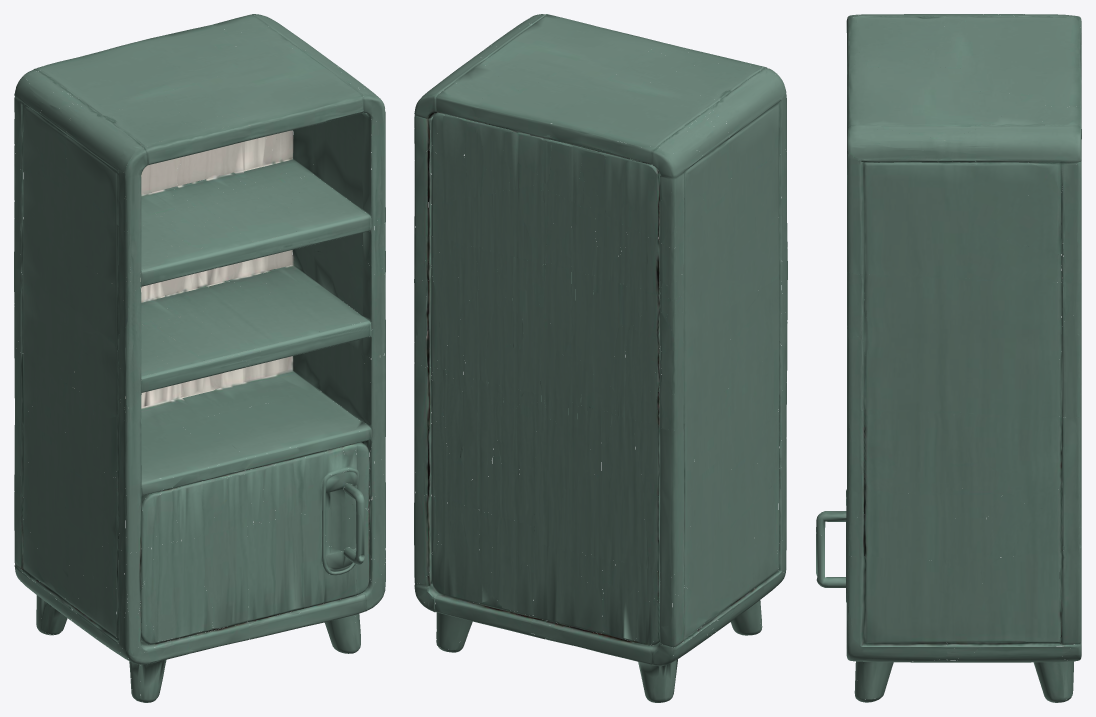
The model's file is cabinet.parts.glb.
3 views of the same model, side by side, from view 1: azimuth 30°, elevation 25°; view 2: azimuth 150°, elevation 25°; view 3: azimuth 270°, elevation 25° (orthographic). The views are drawn at different scales.
Parts seen in each view (by area): view 1: body, door; view 2: body; view 3: body, door.
Part boxes in pixels (x1=…): body: x1=14, y1=14, x2=385, y2=702; door: x1=141, y1=440, x2=372, y2=653; body: x1=414, y1=14, x2=787, y2=702; body: x1=846, y1=14, x2=1081, y2=702; door: x1=816, y1=489, x2=846, y2=645.
Bounding box in the file's own units: 0.4793 × 0.9782 × 0.4078.
Materials: 1 (1 with a texture image).
